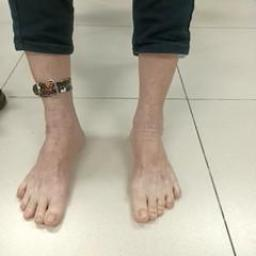Front View -Both Feet-: (4, 101, 206, 241)
